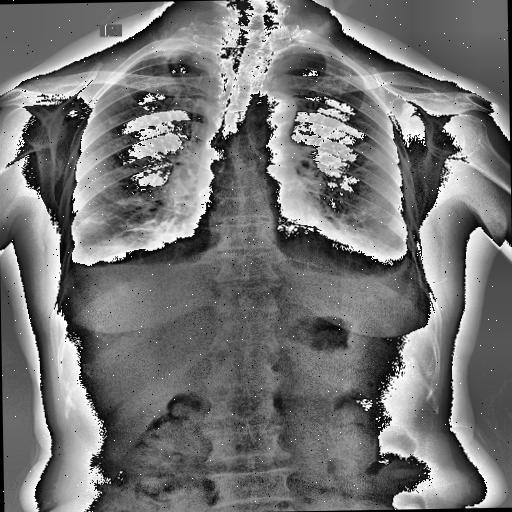0- Aortic enlargement: (248, 90, 296, 140), (246, 87, 297, 132), (242, 88, 295, 129)
10- Pleural effusion: (375, 228, 434, 303), (64, 252, 154, 286), (358, 234, 416, 286), (50, 234, 91, 307), (376, 234, 418, 284), (58, 250, 96, 282)
11- Pleural thickening: (376, 234, 418, 284), (58, 250, 96, 282), (148, 48, 186, 58)
13- Pulmonary fibrosis: (110, 202, 188, 242), (78, 209, 180, 239), (124, 216, 186, 242), (164, 48, 192, 90), (170, 52, 197, 88)
7- Lung Opacity: (66, 240, 136, 268)
